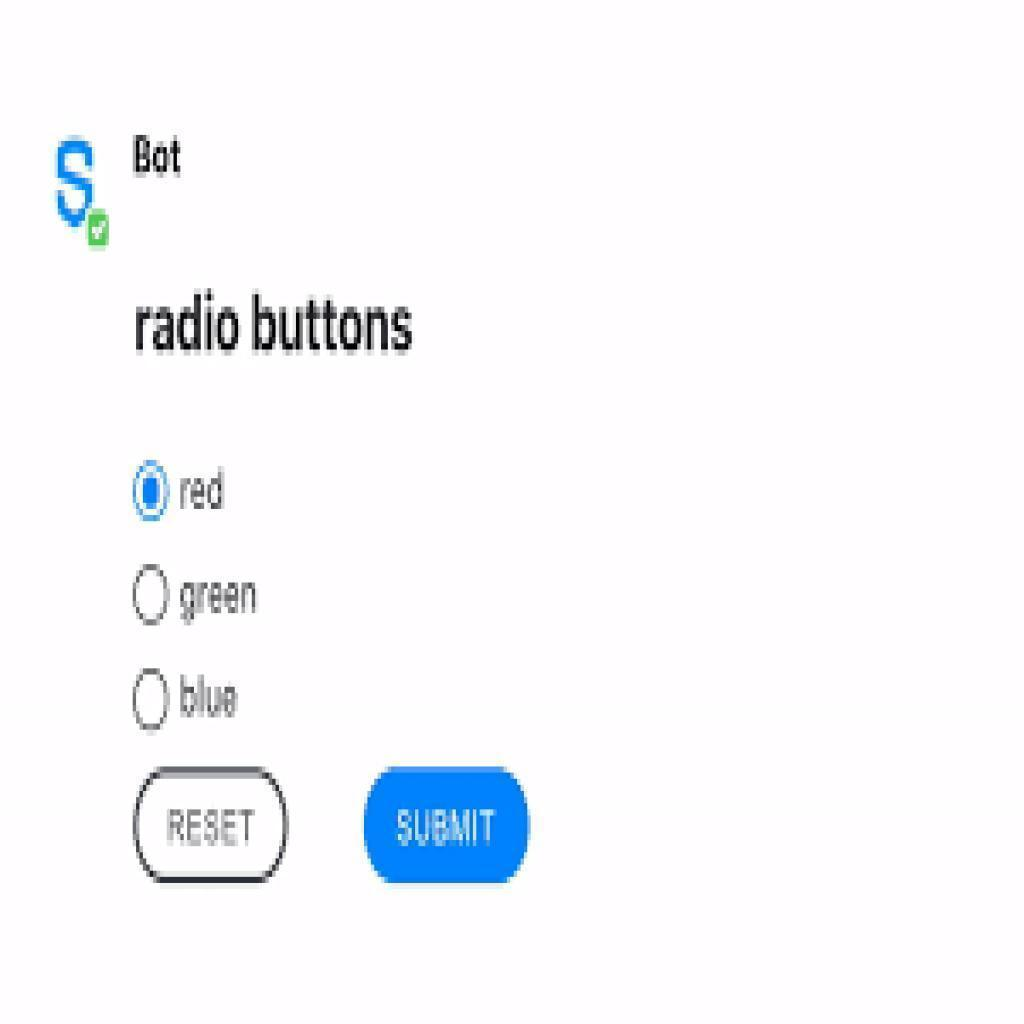button: (364, 762, 532, 887), (129, 766, 289, 890)
radio: (125, 454, 172, 525), (125, 556, 172, 626), (129, 661, 173, 735)
